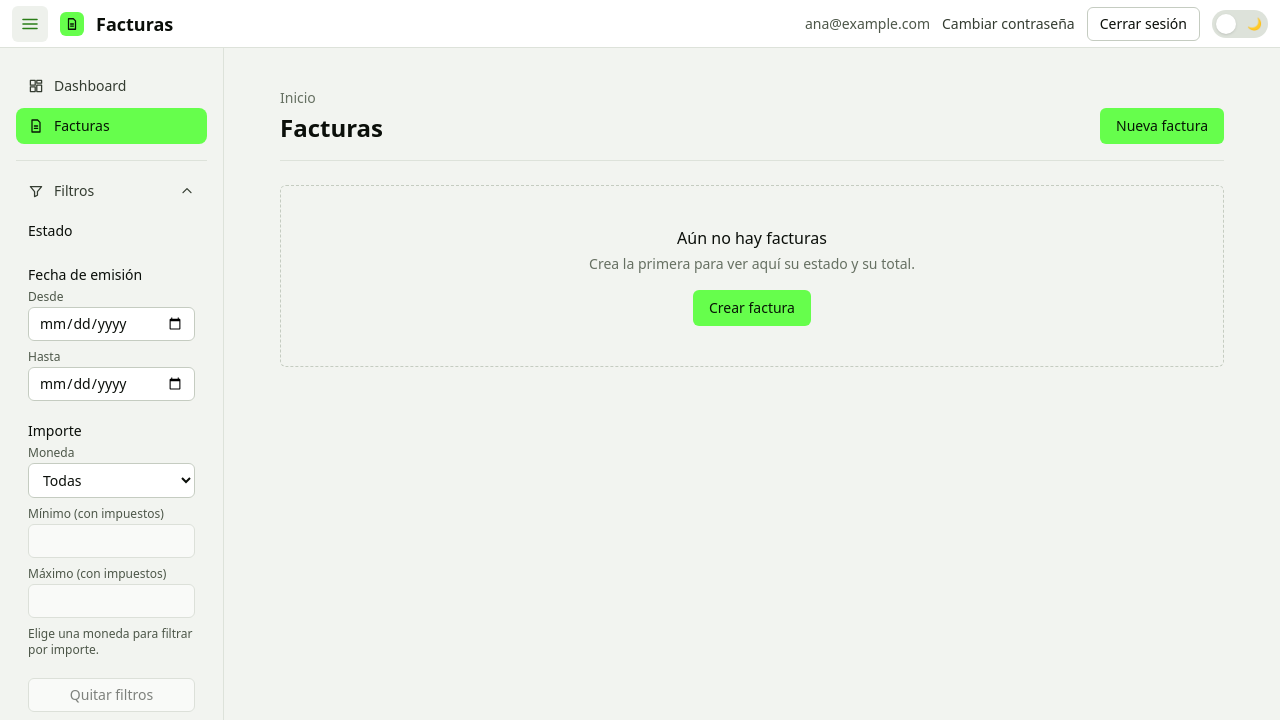
it: router: sesión › cerrar sesión devuelve a /login
Expected: the heading "Facturas" is shown, 280,112 -> 383,144
Expected: the text "ana@example.com" is shown, 805,14 -> 930,34
Click the button "Cerrar sesión" at point(1143, 24), box 1087,6 -> 1200,40
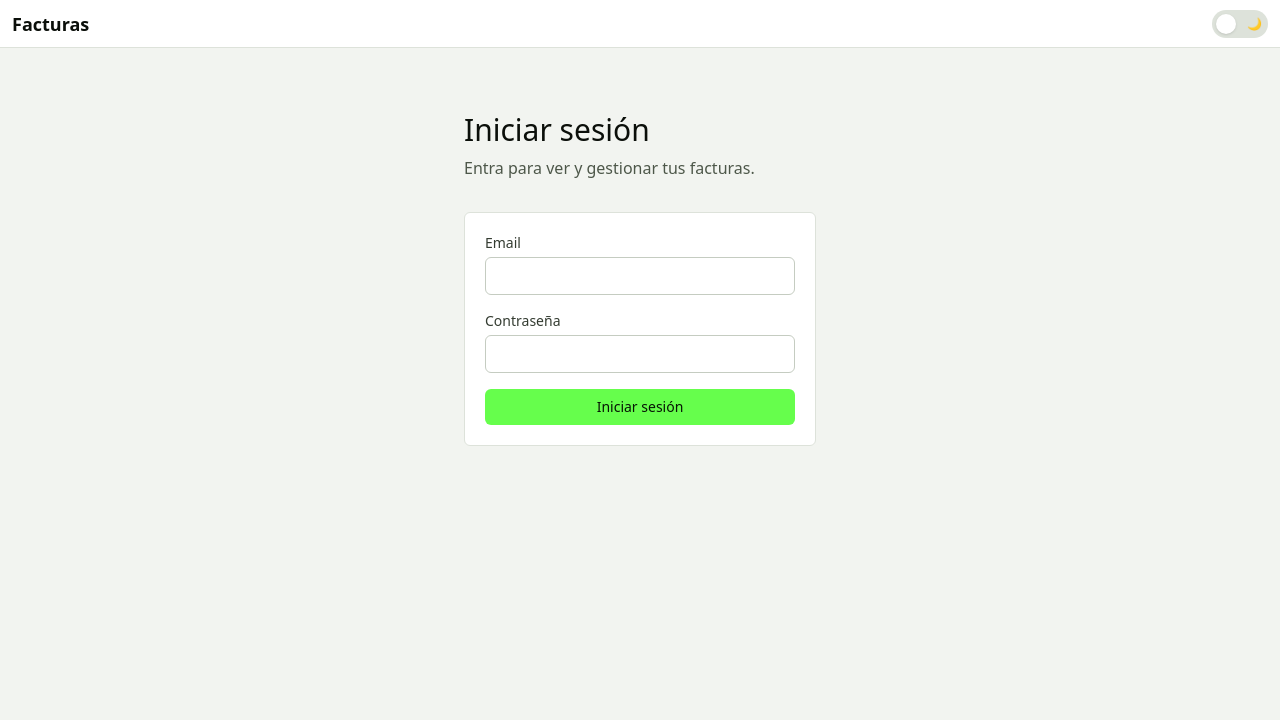
Now the heading "Iniciar sesión" is shown, box 464,109 -> 650,150
